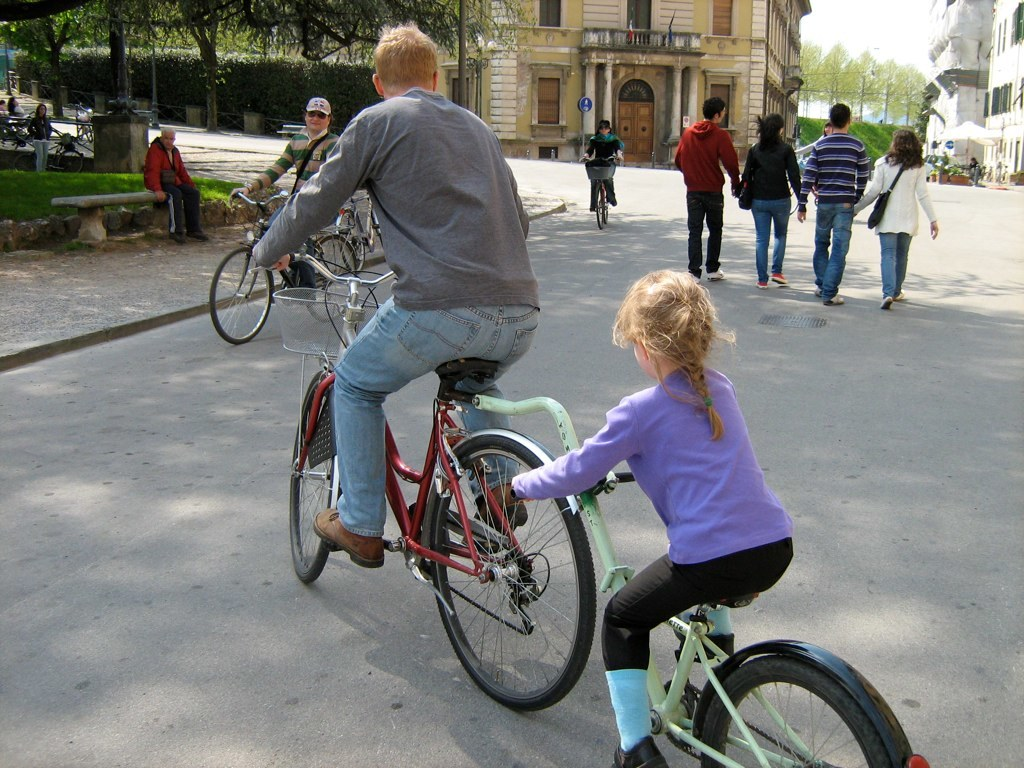Person: (510, 265, 793, 768), (853, 127, 938, 309), (739, 115, 803, 291), (582, 119, 625, 210)
